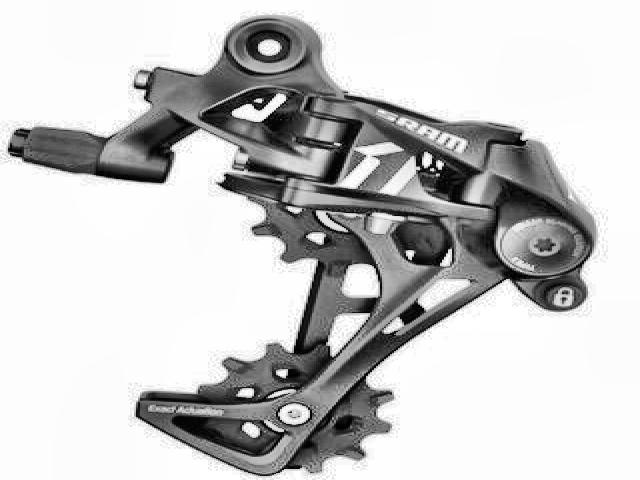rear_derailleur: (11, 14, 600, 475)
